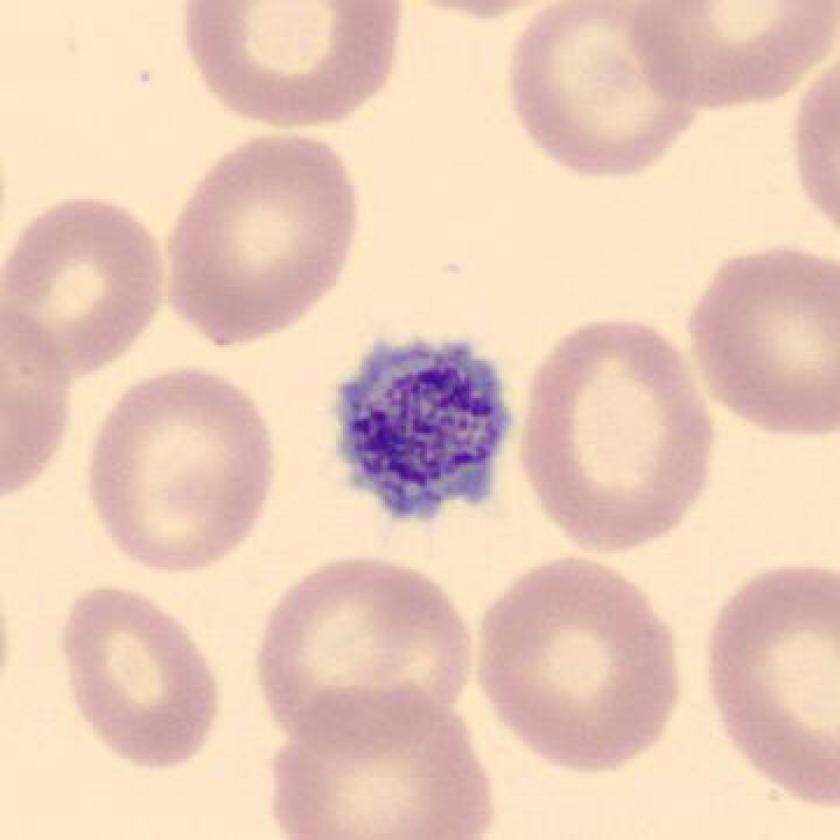platelets: (325, 323, 526, 533)
